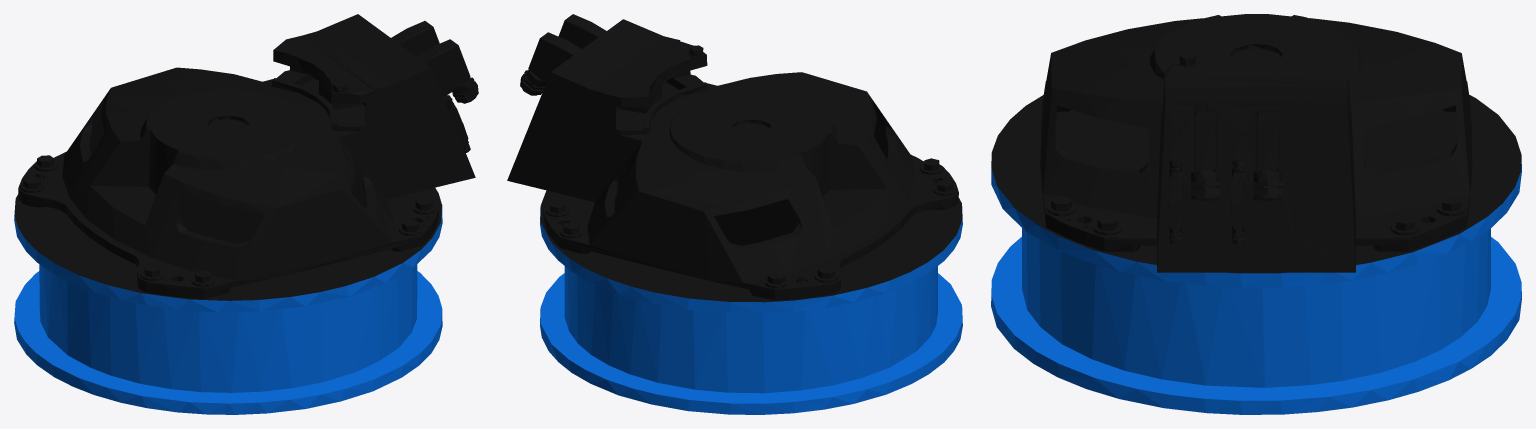
The model's file is KR210_3100_ultra_socket.dae.
The picture shows the model from 3 angles, left to right: view 1: azimuth 30°, elevation 25°; view 2: azimuth 150°, elevation 25°; view 3: azimuth 270°, elevation 25°; orthographic projection. The views are drawn at different scales.
Parts seen in each view (by area): view 1: KR 210 3100 ultra socket; view 2: KR 210 3100 ultra socket; view 3: KR 210 3100 ultra socket.
Boxes of the visible parts, box(x1,y1,x2,y2) form: KR 210 3100 ultra socket: box(14, 14, 478, 414); KR 210 3100 ultra socket: box(507, 14, 962, 414); KR 210 3100 ultra socket: box(991, 14, 1521, 414).
Bounding box in the file's own units: 1.14 × 1.02 × 0.6502.
